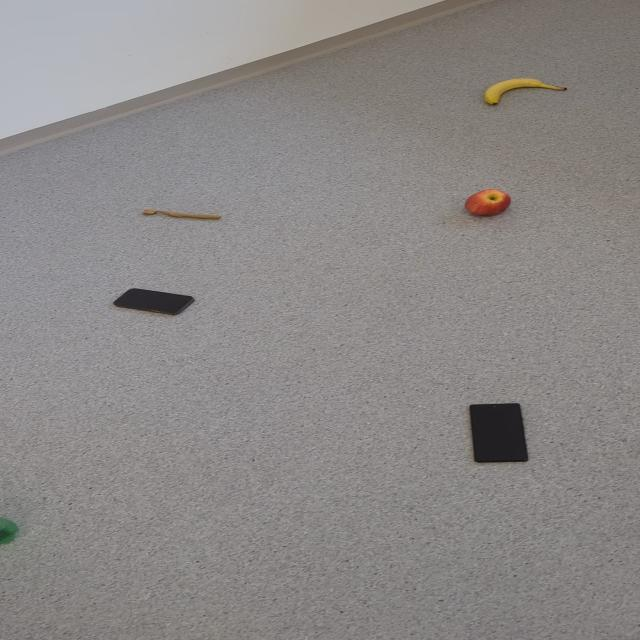apple: (464, 188, 510, 216)
banana: (482, 78, 566, 106)
phone: (468, 402, 528, 462), (112, 288, 195, 316)
